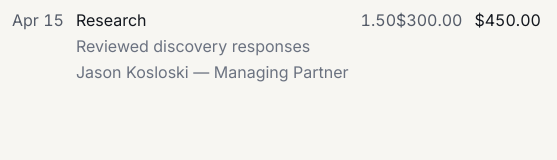
EditableLineItemRow — commit trims outer whitespace › real change is sent trimmed; internal whitespace survives
Click the button "Reviewed discovery responses". click: coordinates (193, 46)
box: [72,36,314,56]
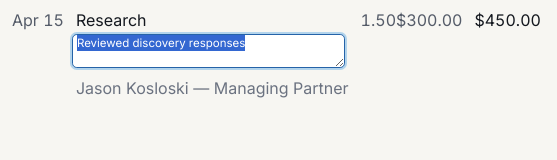
Type keys "  Drafted  motion in limine  {Enter}"
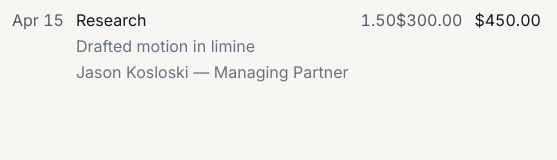
Expected: the button "Research" is shown, [72,10,151,30]
Now the button "Drafted motion in limine" is shown, box [72,36,259,56]
